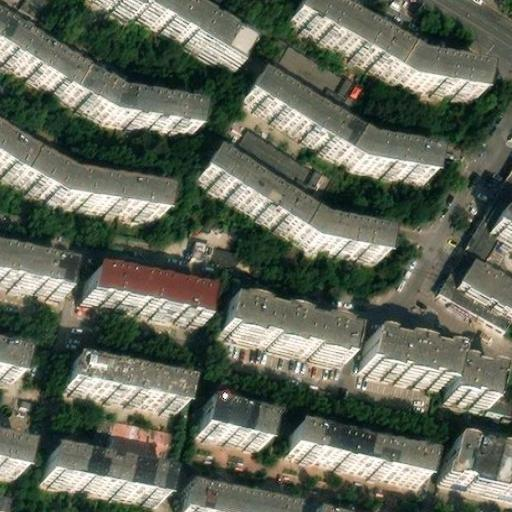building: (197, 154, 388, 260), (239, 76, 430, 182), (359, 329, 495, 402), (217, 293, 352, 359), (285, 420, 431, 480), (133, 0, 243, 64), (224, 130, 316, 205), (65, 361, 190, 413), (85, 269, 205, 323), (43, 453, 166, 503), (273, 37, 355, 102), (442, 432, 512, 493), (178, 481, 293, 512), (202, 396, 274, 442), (0, 242, 70, 289), (457, 251, 512, 309), (98, 426, 167, 464), (0, 343, 26, 377), (488, 202, 512, 238)
